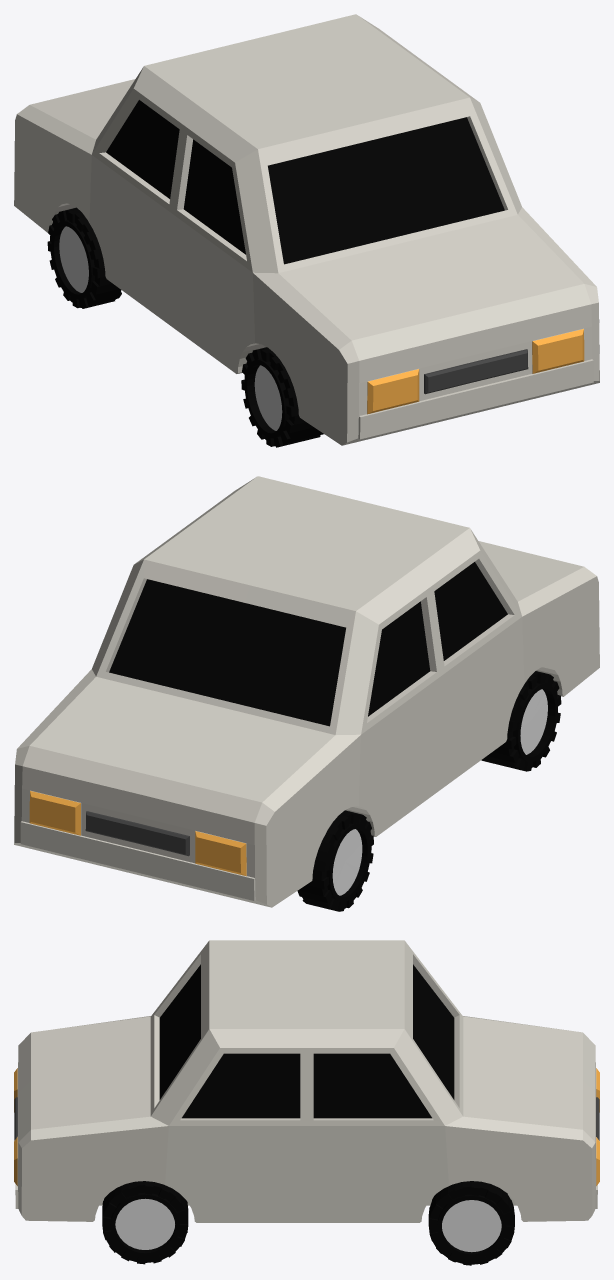
Rendered from normal_car.glb.
3 views of the same model, one above another, from view 1: azimuth 30°, elevation 25°; view 2: azimuth 150°, elevation 25°; view 3: azimuth 270°, elevation 25° (orthographic). The views are drawn at different scales.
Visible parts, largest first — view 1: Cube; view 2: Cube; view 3: Cube.
Boxes of the visible parts, x1,y1,x2,y2 form: Cube: [14, 14, 599, 447]; Cube: [14, 476, 599, 911]; Cube: [14, 940, 599, 1265].
Size of the model in its own units: 4.05 by 3.62 by 8.61.
